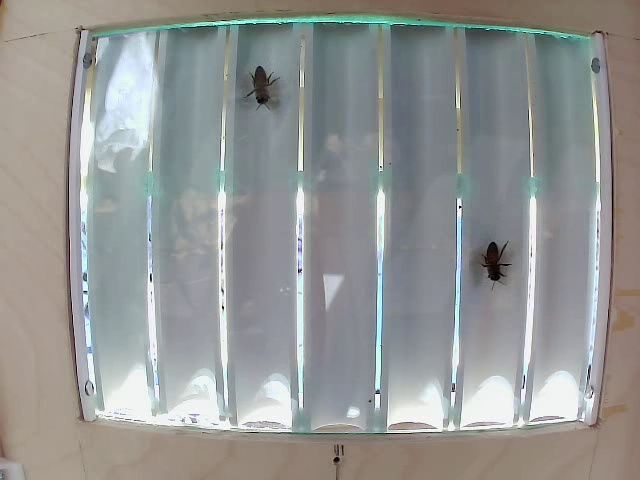bee: (478, 227, 502, 292), (248, 64, 279, 103)
